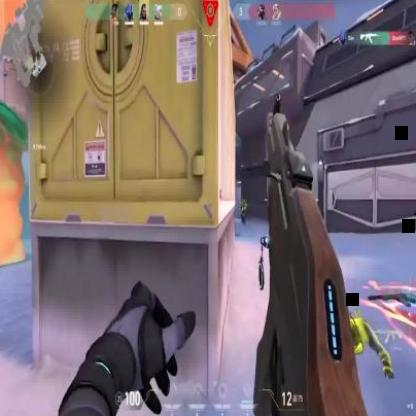enemy: (240, 196, 248, 226)
enemy_head: (242, 197, 245, 203)
